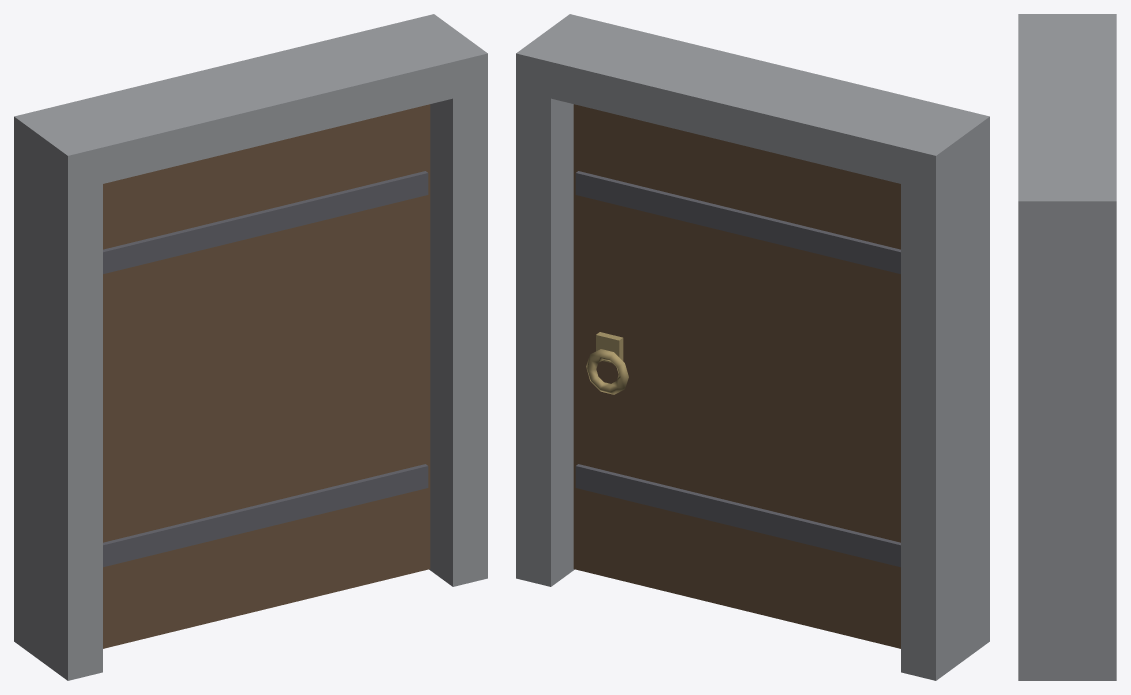
The model's file is Door.fbx.
3 views of the same model, side by side, from view 1: azimuth 30°, elevation 25°; view 2: azimuth 150°, elevation 25°; view 3: azimuth 270°, elevation 25° (orthographic). The views are drawn at different scales.
Visible parts, largest first — view 1: LeafL, Door; view 2: LeafL, Door; view 3: Door.
Part boxes in pixels (box(x1,y1,x2,y2)): LeafL: box(103, 104, 430, 648); Door: box(14, 14, 487, 680); LeafL: box(573, 104, 900, 648); Door: box(516, 14, 989, 680); Door: box(1018, 14, 1116, 680).
Bounding box in the file's own units: 1.8 × 2.15 × 0.4.
